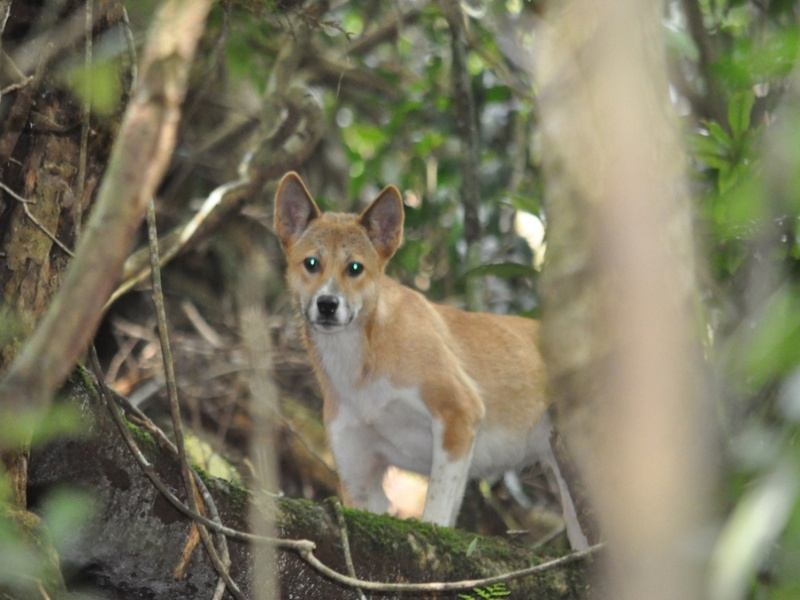dog: (259, 169, 632, 562)
